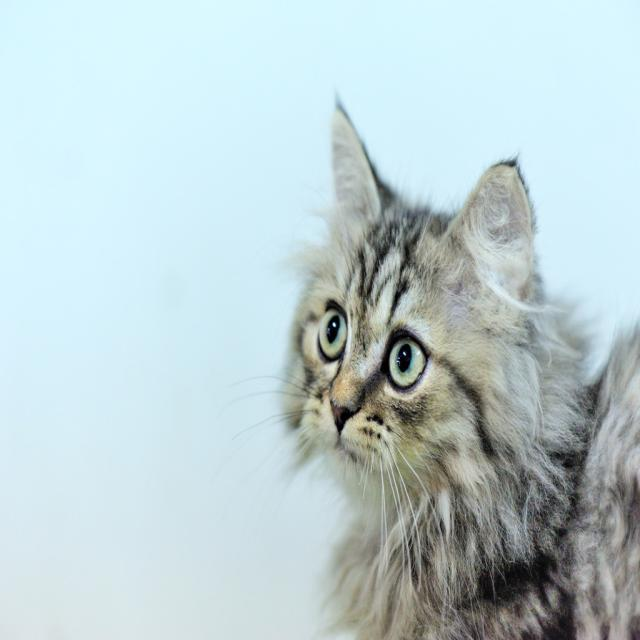Cat: (218, 87, 640, 639)
